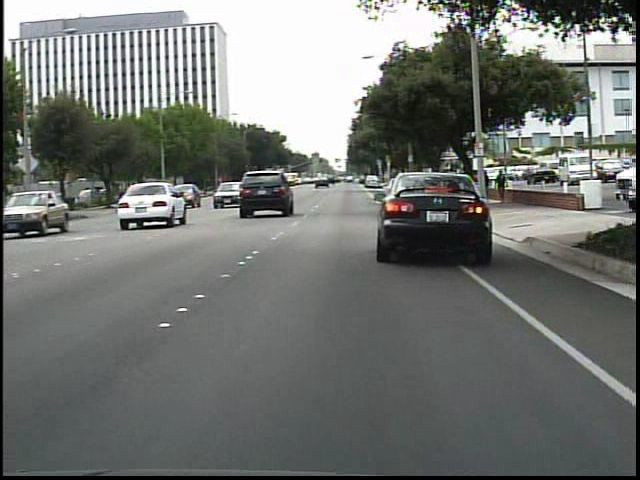person: (493, 168, 510, 208), (479, 169, 493, 202)
